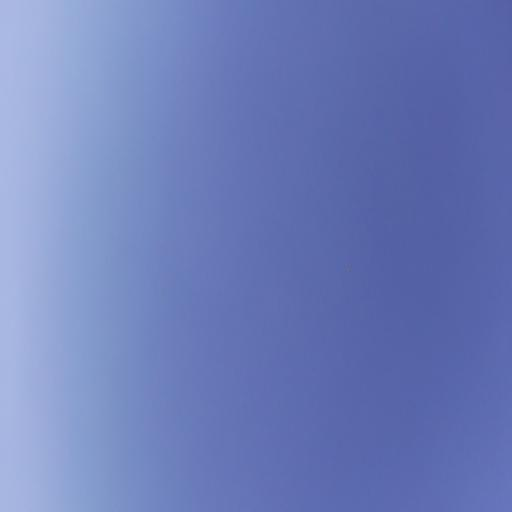drones: (343, 260, 356, 278)
